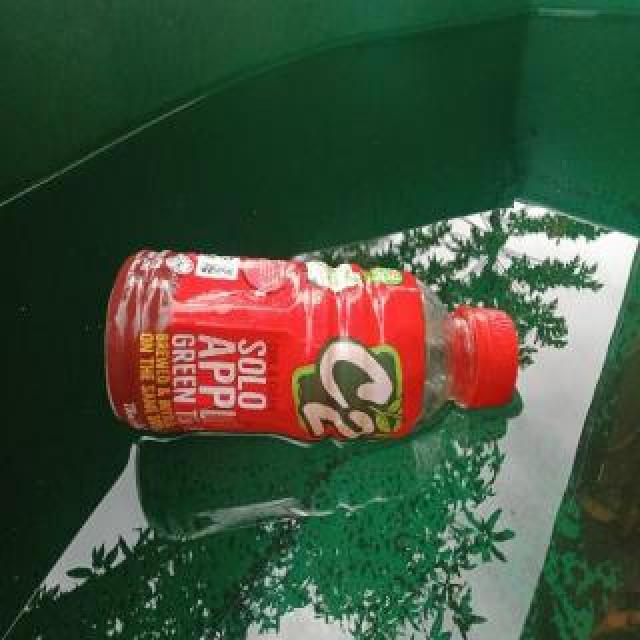Bottle: (94, 238, 527, 455)
